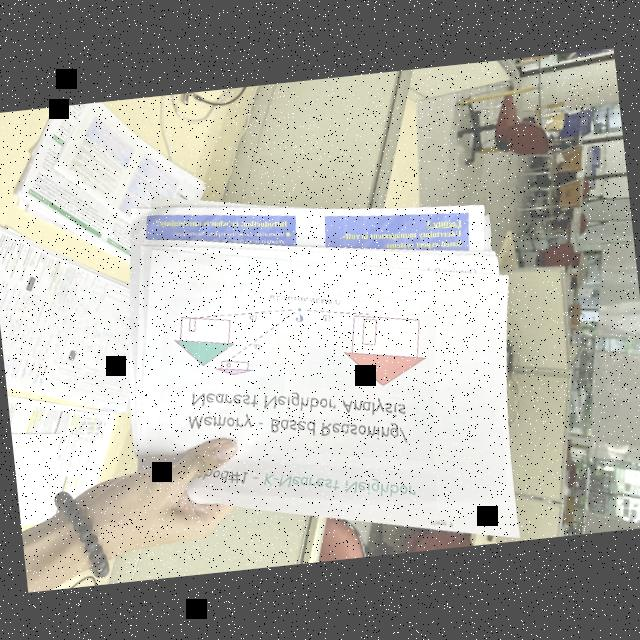reuseable_paper: (99, 140, 546, 580)
